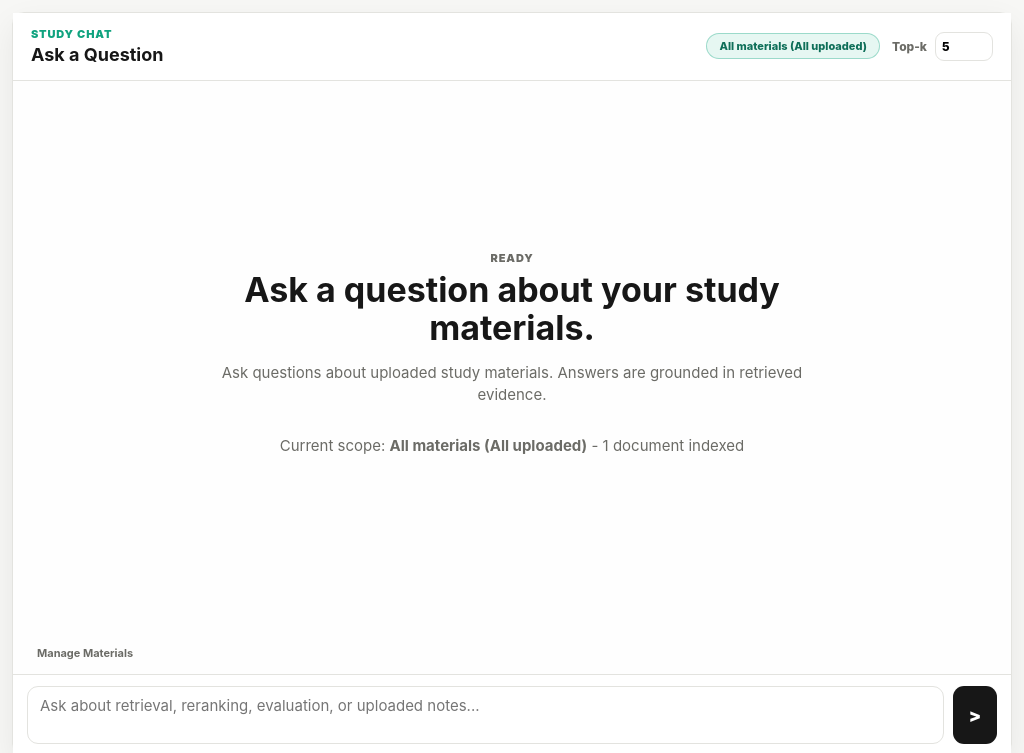
Test: React product workbench › clicking a citation in an older answer restores that turn's evidence
(page scrolled)
Type "What does reranking do?" into the text box named "study question".
click(486, 715); type("What does reranking do?")  # box [27,686,944,744]
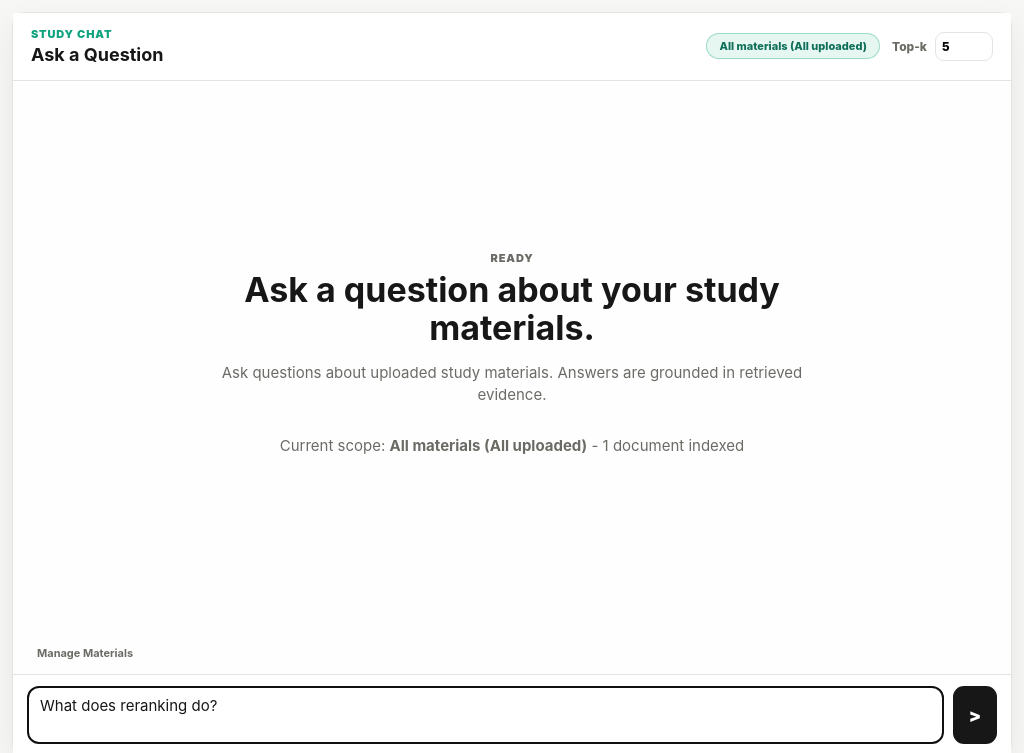
Click the button "Send".
click(975, 715)  # box [953,686,997,744]
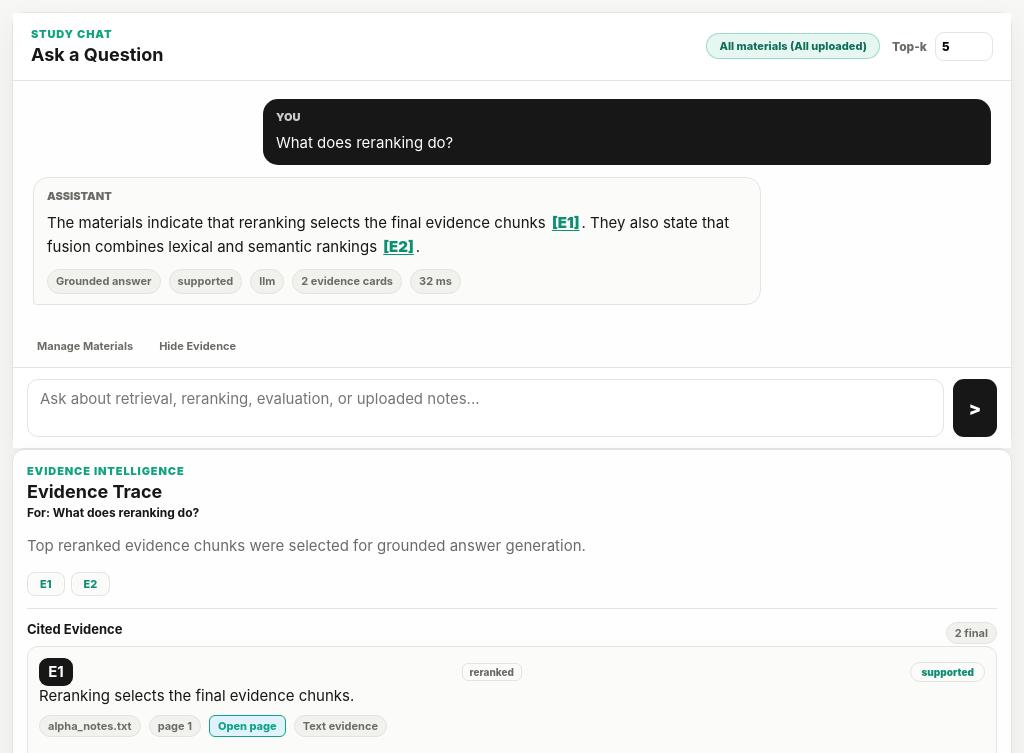
Result: the text "Reranking selects the final evidence chunks." is shown at [39,686,354,705]
Type "What does BM25 do?" into the text box named "study question".
click(486, 408); type("What does BM25 do?")  # box [27,380,944,438]
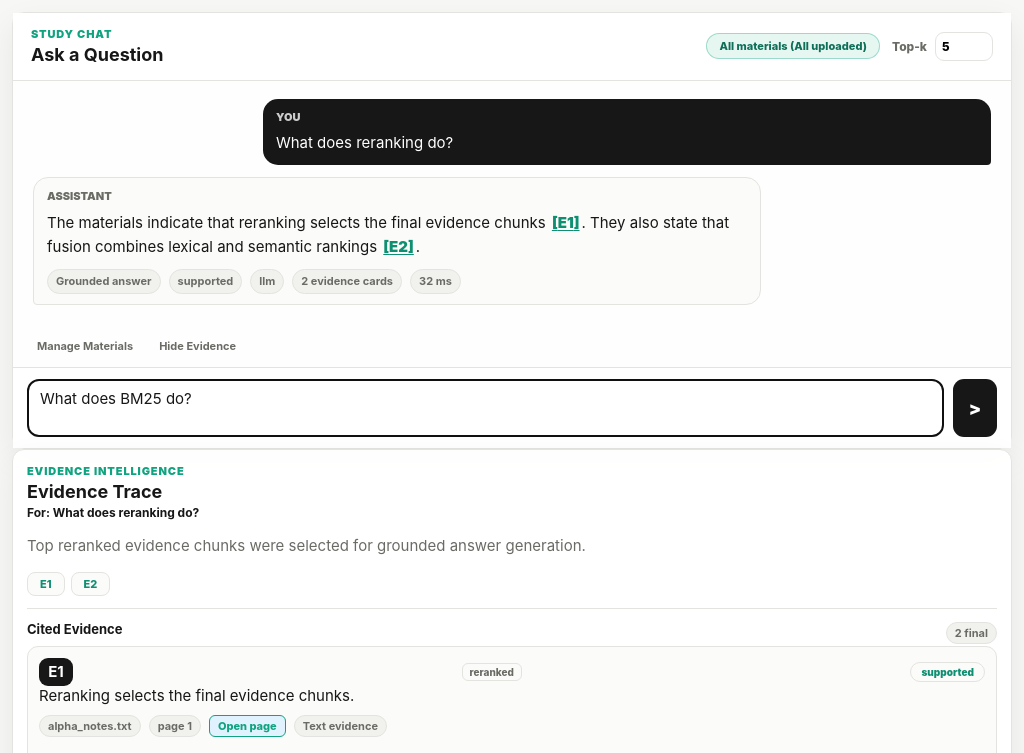
Click the button "Send".
click(975, 408)  # box [953,380,997,438]
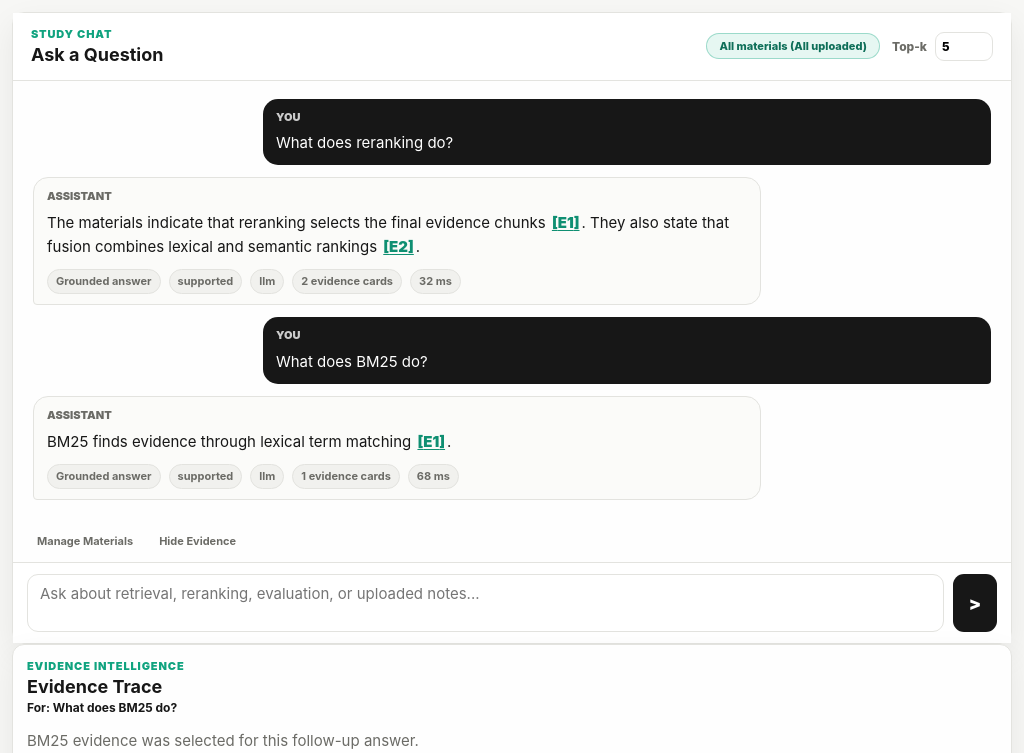
Result: the text "The materials indicate that reranking" is shown at [47,213,550,232]
Click the button named "Show evidence E1".
click(566, 223)  # box [550,211,582,235]
(page scrolled)
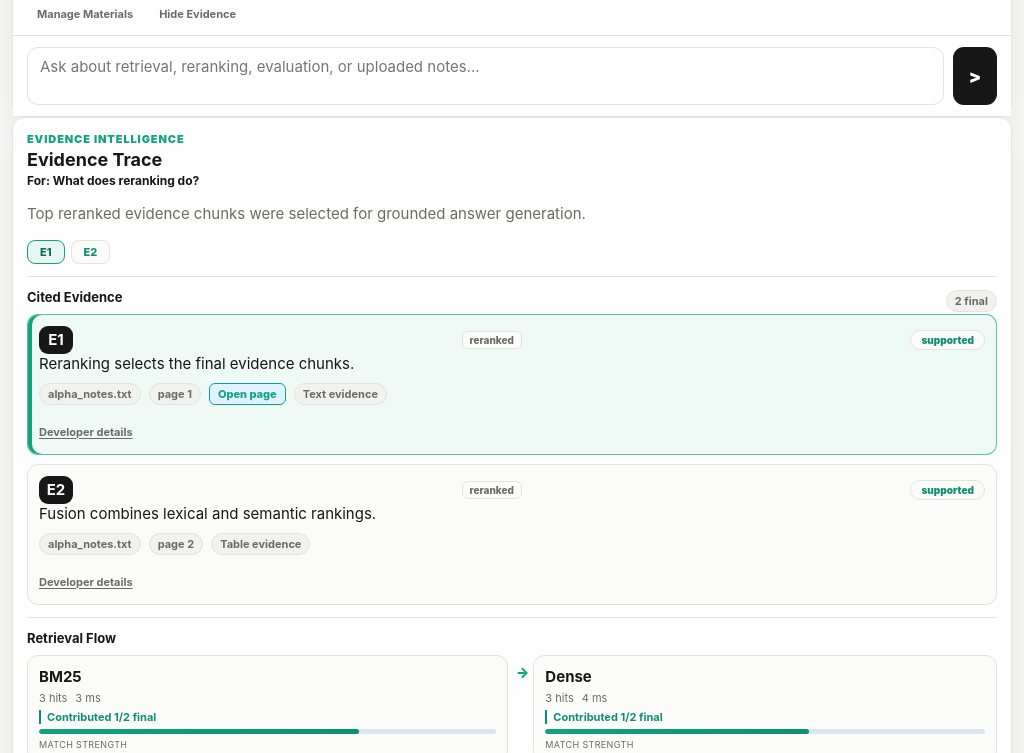
Result: the text "Reranking selects the final evidence chunks." is shown at [39,354,354,373]
